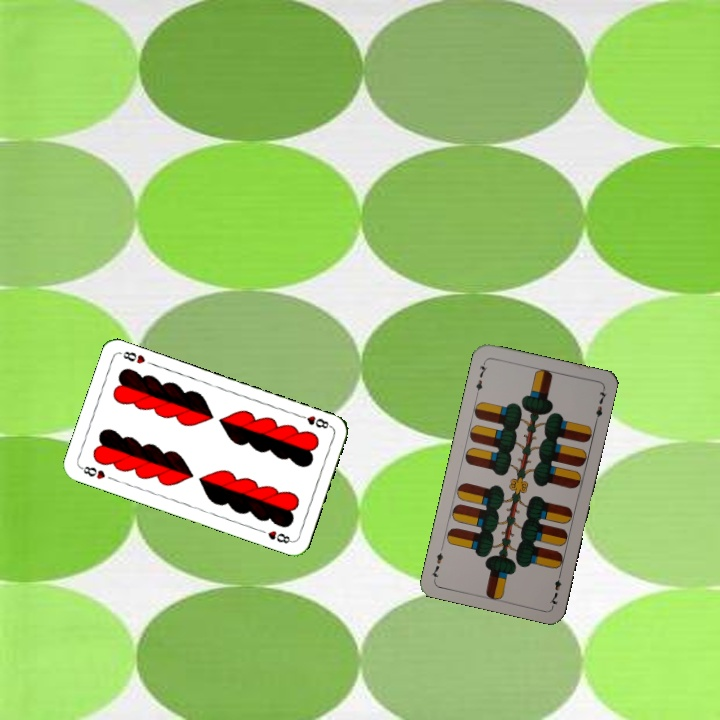E7: (545, 568, 564, 609), (471, 357, 489, 398)
H8: (294, 411, 334, 431), (77, 462, 108, 482)
